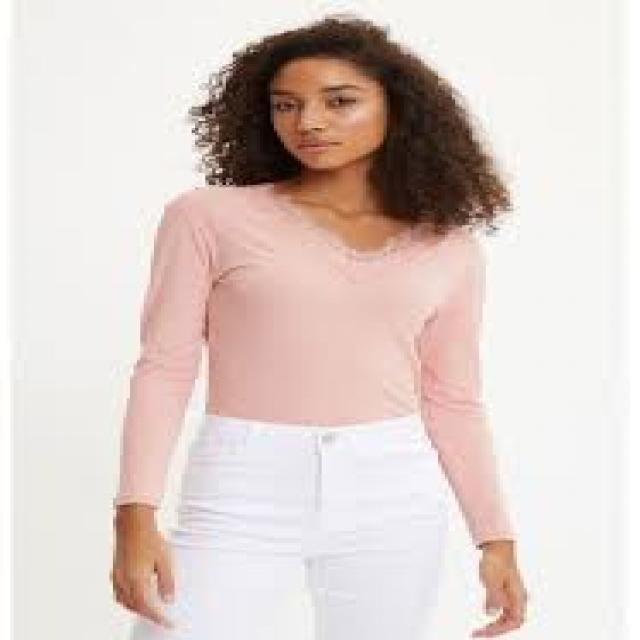plain: (124, 173, 495, 426)
